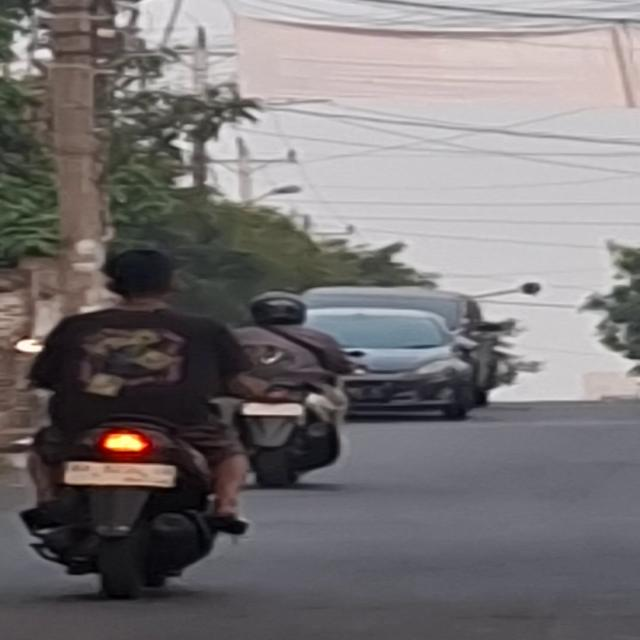WithHelmet: (228, 291, 356, 473)
WithoutHelmet: (18, 251, 250, 605)
